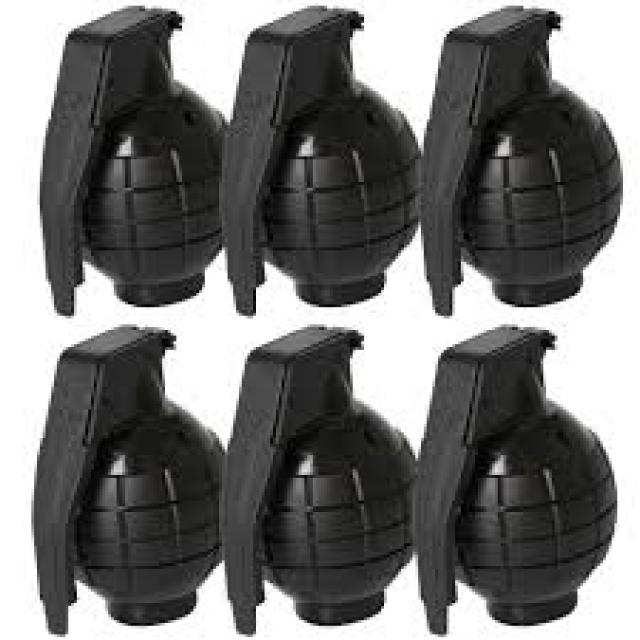grenade: (417, 1, 626, 321)
